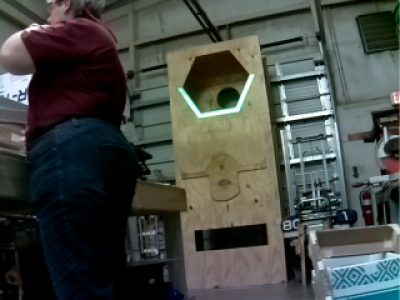target: (177, 75, 255, 118)
